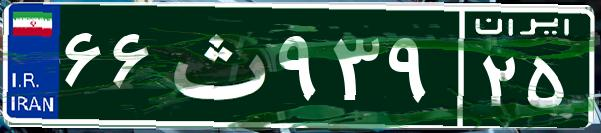2: (475, 38, 525, 113)
3: (330, 28, 385, 110)
5: (525, 38, 570, 115)
6: (57, 26, 110, 107), (110, 28, 158, 105)
9: (385, 28, 445, 110), (273, 28, 330, 110)
ث: (158, 15, 273, 115)
